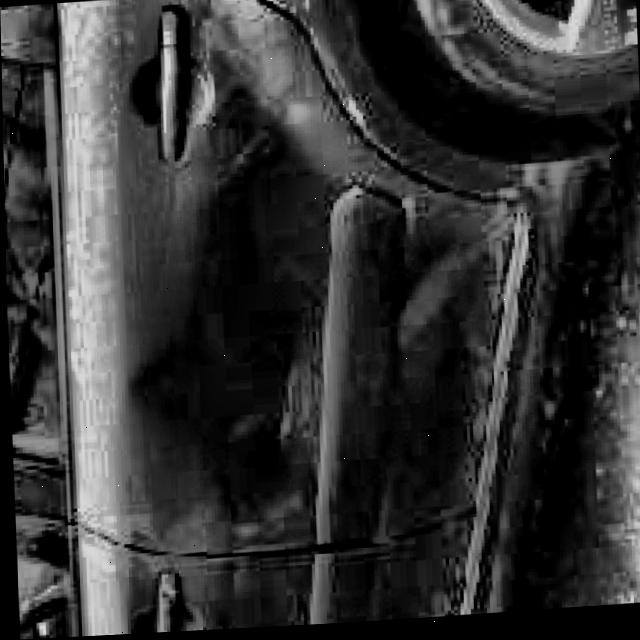door_dent: (121, 137, 332, 524)
